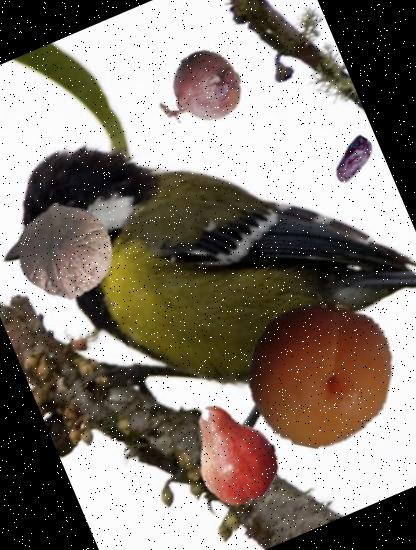Apricot: (223, 279, 414, 470)
Dates: (321, 126, 388, 194)
Onion: (144, 31, 260, 148)
Pear: (166, 383, 305, 522)
Walnut: (0, 186, 130, 316)
